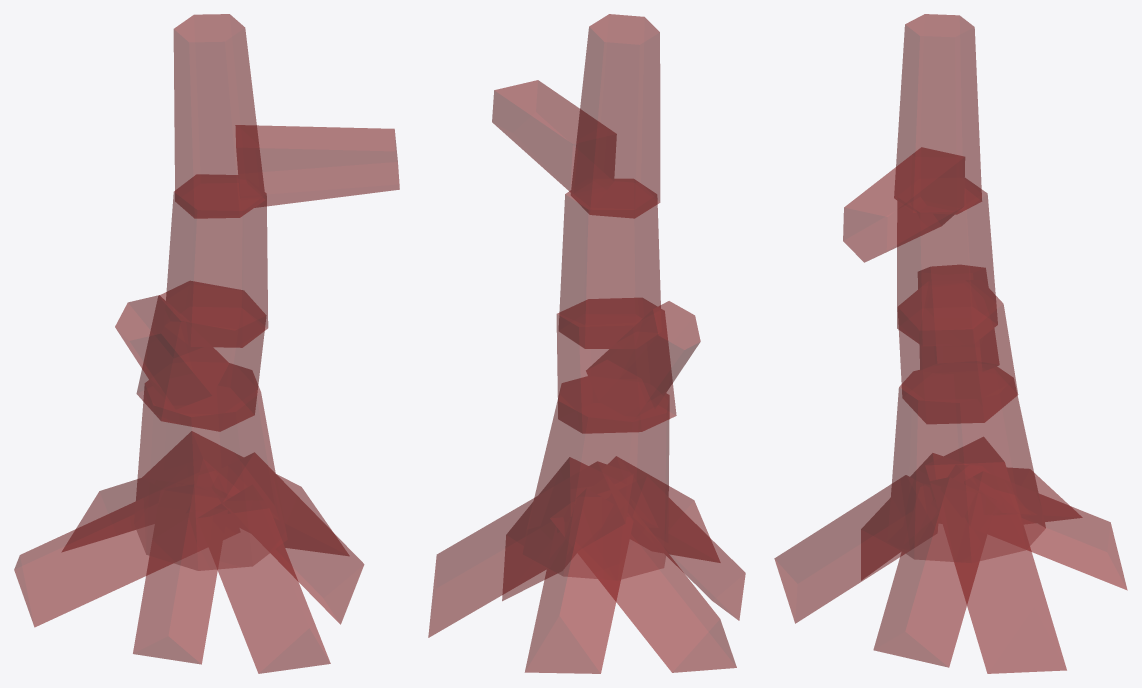
File: SM_Env_Tree_Large_Twisted_01_Collision.fbx
3 views of the same model, side by side, from view 1: azimuth 30°, elevation 25°; view 2: azimuth 150°, elevation 25°; view 3: azimuth 270°, elevation 25° (orthographic). The views are drawn at different scales.
Visible parts, largest first — view 1: SM_Env_Tree_Large_Twisted_01_Collision; view 2: SM_Env_Tree_Large_Twisted_01_Collision; view 3: SM_Env_Tree_Large_Twisted_01_Collision.
Part boxes in pixels (x1,y1,x2,y2): SM_Env_Tree_Large_Twisted_01_Collision: (14, 14, 399, 673); SM_Env_Tree_Large_Twisted_01_Collision: (428, 14, 745, 673); SM_Env_Tree_Large_Twisted_01_Collision: (774, 14, 1127, 673).
Size of the model in its own units: 352 by 657 by 358.
